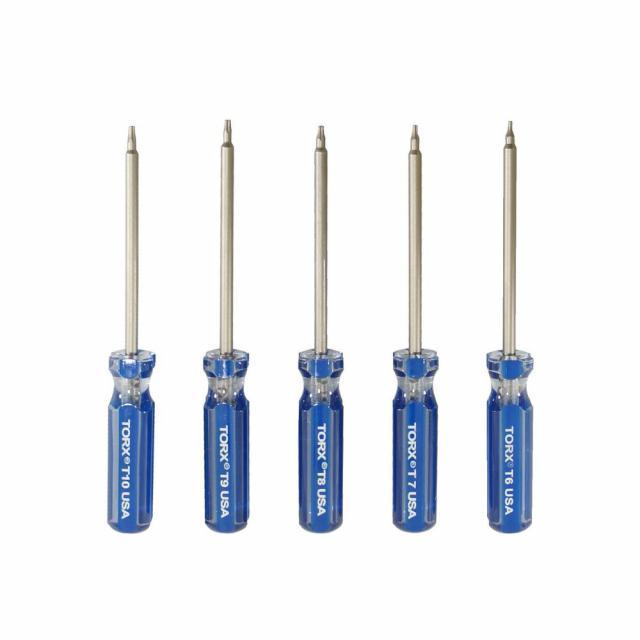screwdriver: (376, 121, 447, 538), (190, 118, 255, 536), (288, 120, 352, 538), (476, 116, 539, 536), (100, 120, 160, 534)
